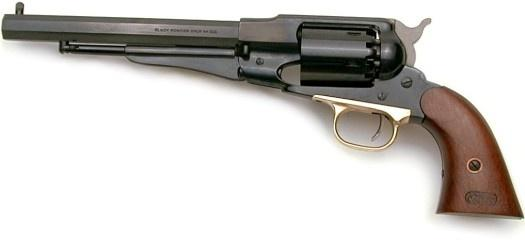gun: (9, 2, 519, 235)
